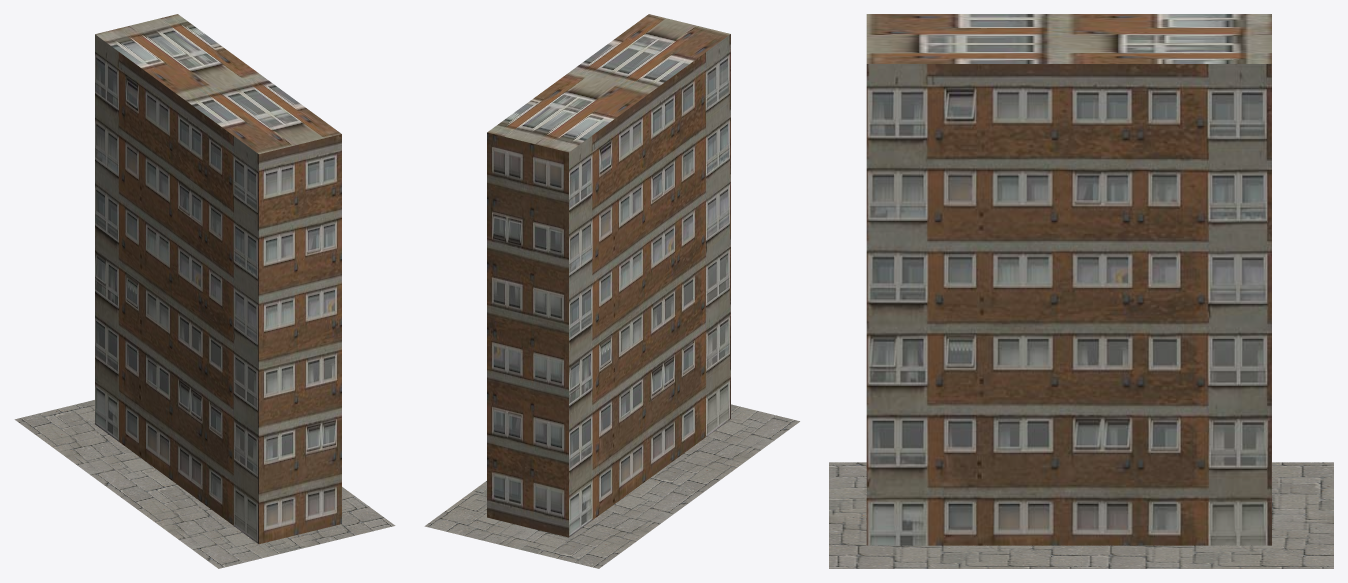
The model's file is building6.fbx.
3 views of the same model, side by side, from view 1: azimuth 30°, elevation 25°; view 2: azimuth 150°, elevation 25°; view 3: azimuth 270°, elevation 25° (orthographic). The views are drawn at different scales.
Parts seen in each view (by area): view 1: pCube9, pasted__pasted__pasted__pasted__pasted__pPlane4, pasted__pasted__pasted__pasted__pPlane4; view 2: pCube9, pasted__pasted__pasted__pasted__pPlane4, pasted__pasted__pasted__pasted__pasted__pPlane4; view 3: pCube9, pasted__pasted__pasted__pasted__pPlane4, pasted__pasted__pasted__pasted__pasted__pPlane4.
Boxes of the visible parts, left/top/right/bottom form: pCube9: left=95, top=14, right=341, bottom=544; pasted__pasted__pasted__pasted__pasted__pPlane4: left=117, top=480, right=395, bottom=568; pasted__pasted__pasted__pasted__pPlane4: left=14, top=400, right=171, bottom=493; pCube9: left=487, top=14, right=730, bottom=537; pasted__pasted__pasted__pasted__pPlane4: left=424, top=481, right=699, bottom=568; pasted__pasted__pasted__pasted__pasted__pPlane4: left=645, top=404, right=799, bottom=494; pCube9: left=866, top=14, right=1271, bottom=545; pasted__pasted__pasted__pasted__pPlane4: left=1081, top=462, right=1333, bottom=568; pasted__pasted__pasted__pasted__pasted__pPlane4: left=829, top=462, right=1081, bottom=568.
Size of the model in its own units: 10 by 21.06 by 20.
2 materials, 2 textured.
